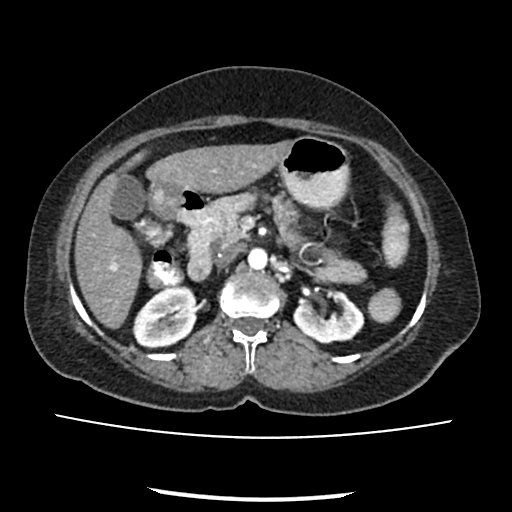aorta: (247, 246, 268, 271)
